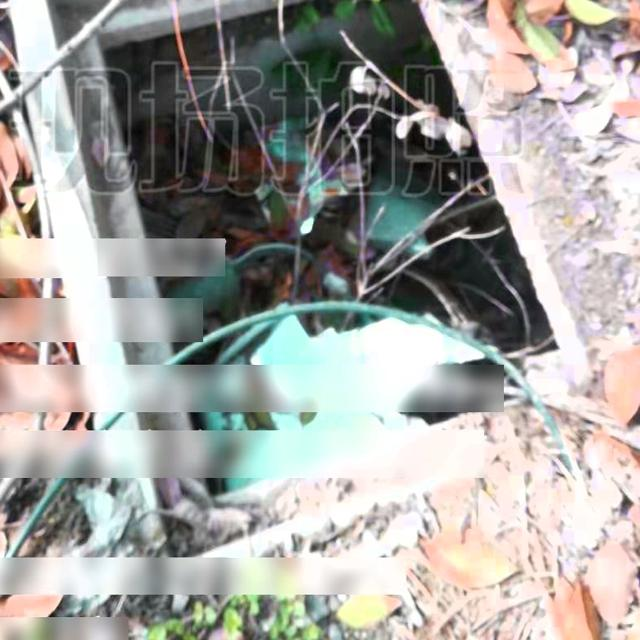lose: (1, 0, 598, 590)
